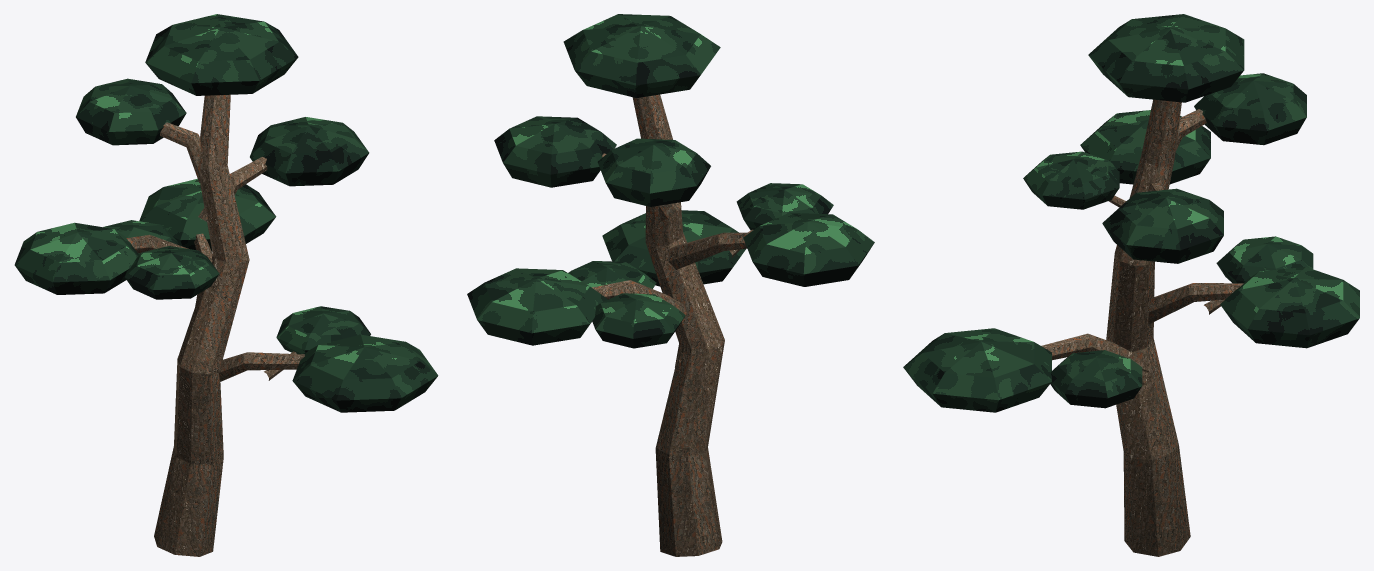
Rendered from tree_pine.glb.
3 views of the same model, side by side, from view 1: azimuth 30°, elevation 25°; view 2: azimuth 150°, elevation 25°; view 3: azimuth 270°, elevation 25° (orthographic). The views are drawn at different scales.
Visible parts, largest first — view 1: tree_pine; view 2: tree_pine; view 3: tree_pine.
Part boxes in pixels (x1,y1,x2,y2): tree_pine: (14,14,438,556); tree_pine: (467,14,874,556); tree_pine: (903,14,1359,556).
Size of the model in its own units: 3.38 by 4.7 by 3.62.
Materials: 1 (1 with a texture image).
